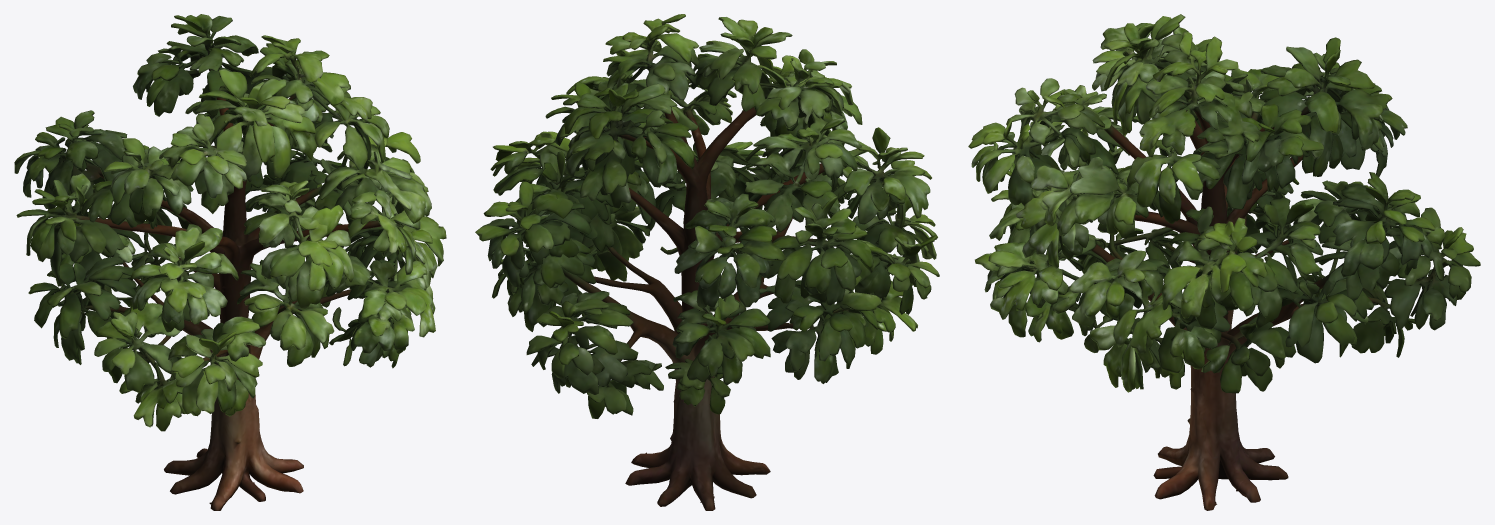
Rendered from tripo.glb.
3 views of the same model, side by side, from view 1: azimuth 30°, elevation 25°; view 2: azimuth 150°, elevation 25°; view 3: azimuth 270°, elevation 25° (orthographic). The views are drawn at different scales.
Parts seen in each view (by area): view 1: tripo_node_f81b11ee-09d4-4813-8145-75c1a89e195e; view 2: tripo_node_f81b11ee-09d4-4813-8145-75c1a89e195e; view 3: tripo_node_f81b11ee-09d4-4813-8145-75c1a89e195e.
Boxes of the visible parts, x1,y1,x2,y2 form: tripo_node_f81b11ee-09d4-4813-8145-75c1a89e195e: (14,14,446,510); tripo_node_f81b11ee-09d4-4813-8145-75c1a89e195e: (475,14,939,510); tripo_node_f81b11ee-09d4-4813-8145-75c1a89e195e: (968,14,1480,510).
Bounding box in the file's own units: 0.8863 × 0.9943 × 1.
Materials: 1 (1 with a texture image).
